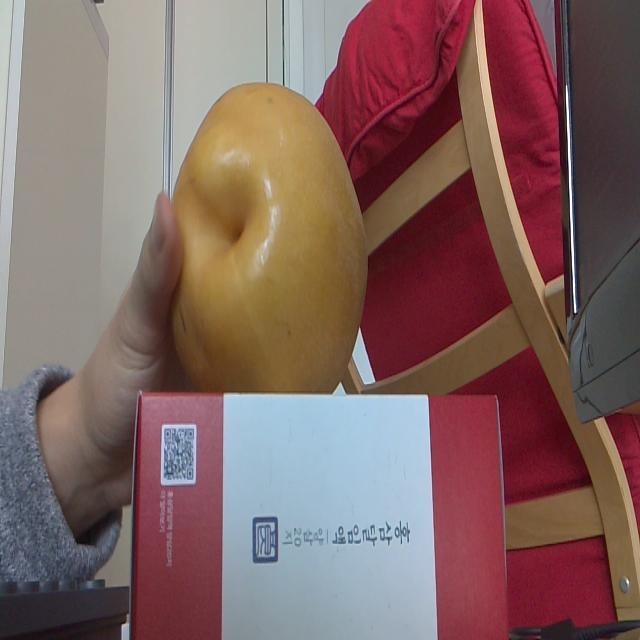pear: (165, 82, 369, 393)
